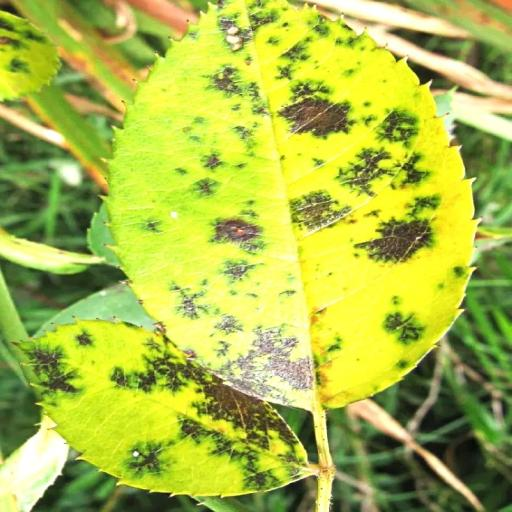downy_mildew: (108, 0, 474, 409), (23, 321, 311, 495), (0, 416, 68, 511), (0, 11, 58, 100), (0, 228, 105, 274), (87, 203, 119, 266)
